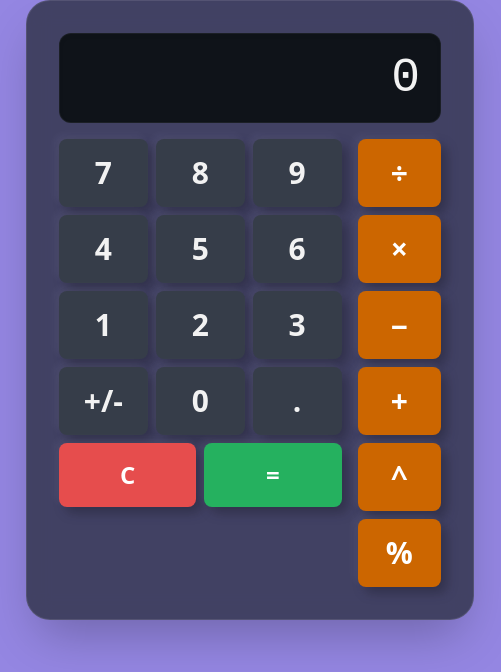
Keyboard Navigation Tests (US5) › Enter/Space Key Activation › should activate clear button with click in Calculator
Enter some numbers first
Step 1. Type keys "123"
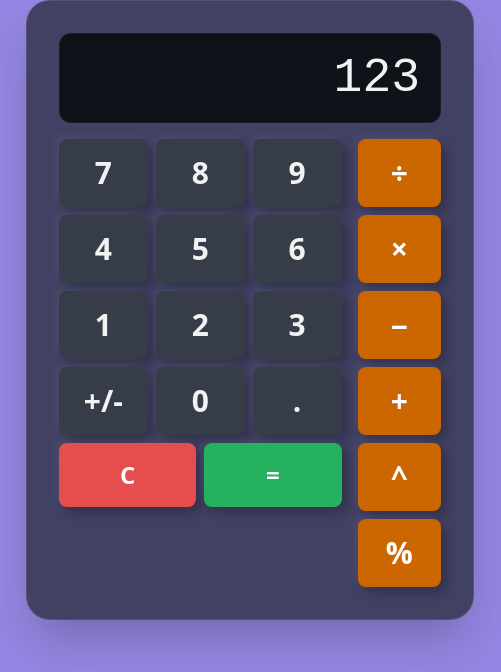
Expected: the message named "display" reads "123", [334,51,420,105]
Click clear button (Enter/Space on focused button works via native browser behavior)
Step 2. Click the button named "clear" → click(128, 475), box [59,443,196,507]
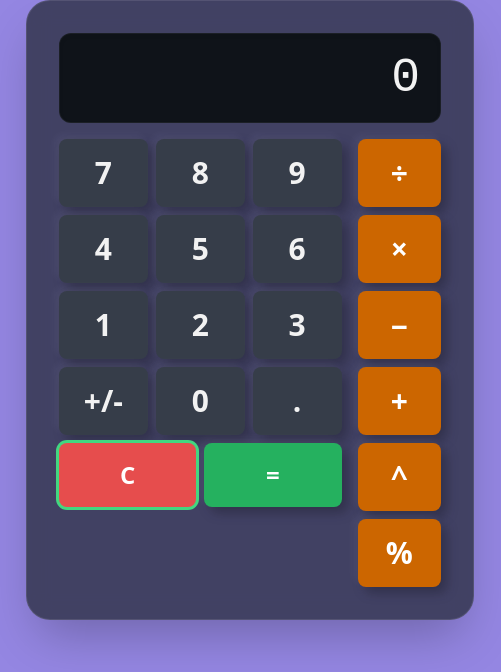
Expected: the message named "display" reads "0", [391,51,420,105]
